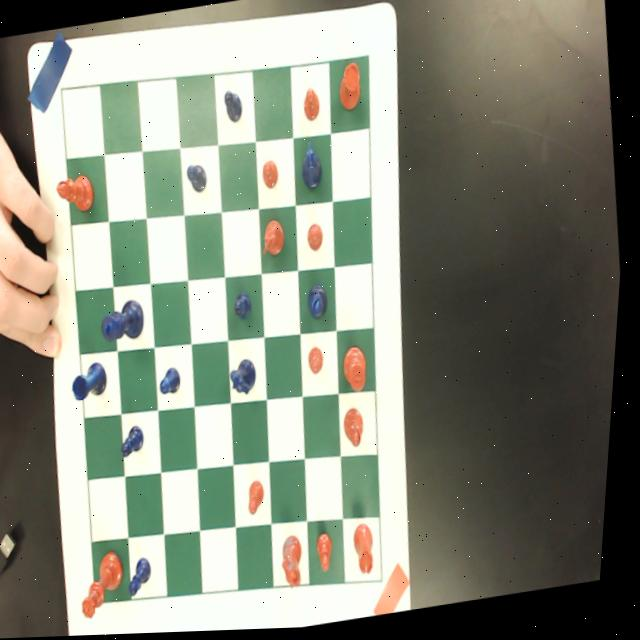B: (308, 282, 334, 322)
K: (101, 297, 152, 345)
N: (298, 139, 328, 194), (230, 358, 264, 400)
P: (130, 557, 161, 599), (122, 423, 152, 461), (222, 87, 247, 126), (161, 365, 188, 398), (186, 164, 211, 195), (234, 292, 257, 323)
R: (72, 361, 114, 402)
b: (54, 172, 98, 217), (346, 409, 372, 451)
k: (343, 344, 376, 396)
n: (282, 535, 313, 592), (261, 220, 289, 259)
p: (318, 533, 344, 576), (299, 88, 323, 126), (251, 480, 273, 516), (260, 160, 283, 193), (309, 346, 330, 379), (307, 224, 327, 255)
q: (82, 548, 138, 620)
r: (333, 61, 365, 119), (355, 523, 385, 580)
